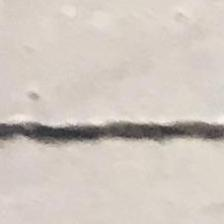Crack: (0, 114, 224, 157)
